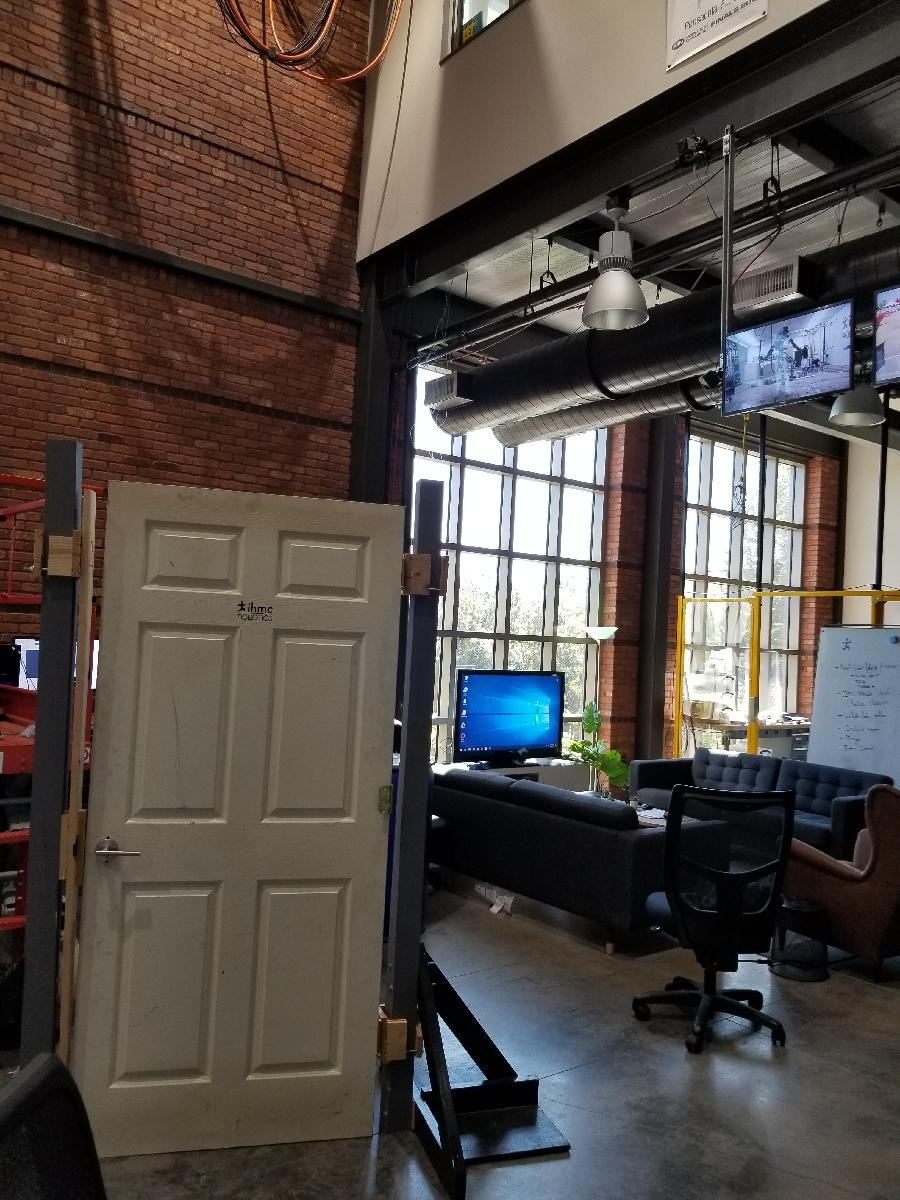door: (62, 478, 415, 1166)
doorHandle: (87, 840, 149, 864)
